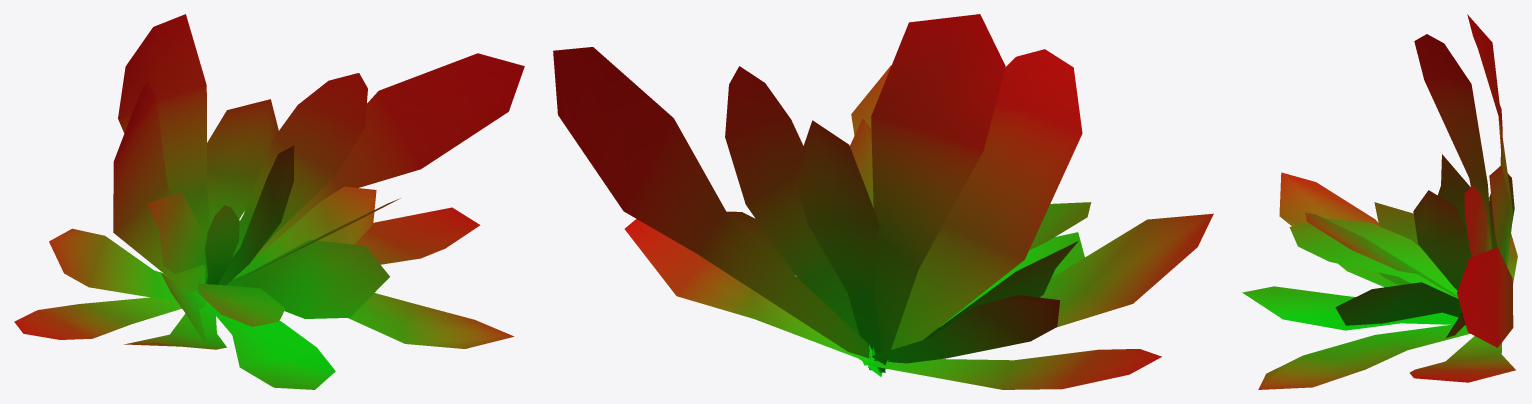
Rendered from Var13_LOD2.fbx.
3 renders of one model, left to right at view 1: azimuth 30°, elevation 25°; view 2: azimuth 150°, elevation 25°; view 3: azimuth 270°, elevation 25°, orthographic. The views are drawn at different scales.
Visible parts, largest first — view 1: _k7y7_Var13_LOD2; view 2: _k7y7_Var13_LOD2; view 3: _k7y7_Var13_LOD2.
Part boxes in pixels (x1=…): _k7y7_Var13_LOD2: x1=14, y1=14, x2=524, y2=389; _k7y7_Var13_LOD2: x1=553, y1=14, x2=1213, y2=389; _k7y7_Var13_LOD2: x1=1242, y1=14, x2=1517, y2=389.
Bounding box in the file's own units: 14.98 × 8.75 × 7.65.
